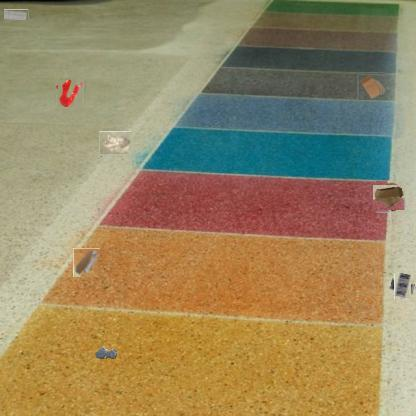dirty: (375, 182, 404, 212), (358, 72, 386, 100), (73, 248, 100, 277), (99, 131, 131, 154), (392, 276, 413, 297), (4, 9, 29, 20)
liquid: (58, 78, 86, 106), (93, 344, 117, 360)
